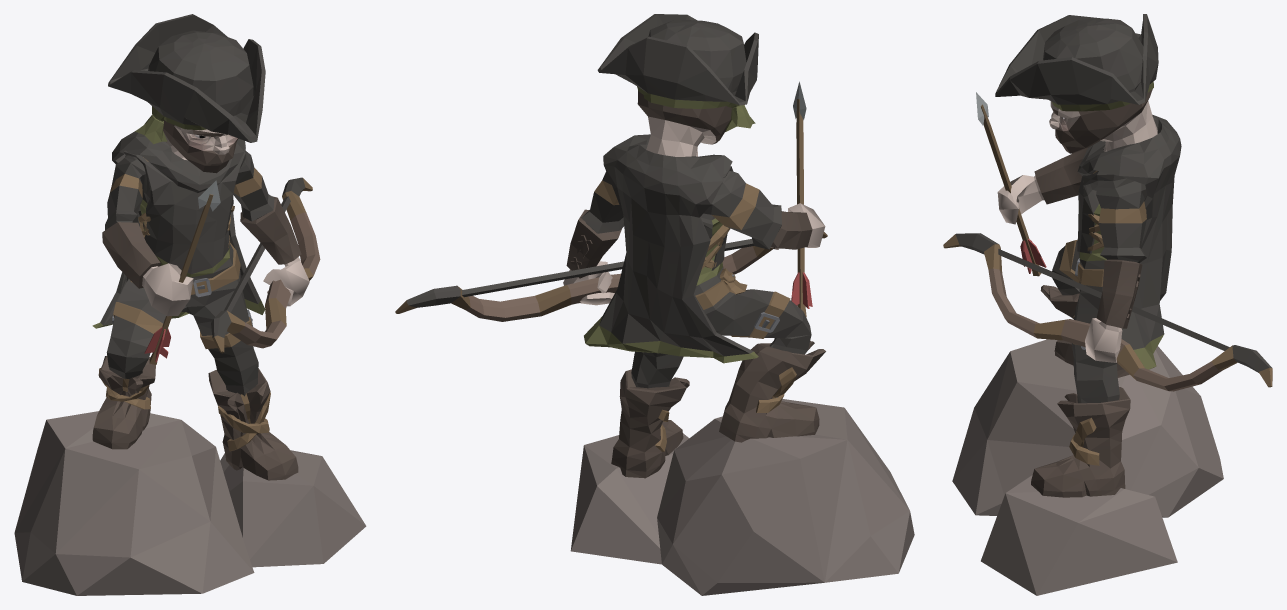
The model's file is twistedArcher.fbx.
3 renders of one model, left to right at view 1: azimuth 30°, elevation 25°; view 2: azimuth 150°, elevation 25°; view 3: azimuth 270°, elevation 25°, orthographic. The views are drawn at different scales.
Visible parts, largest first — view 1: twistedArcher; view 2: twistedArcher; view 3: twistedArcher.
Part boxes in pixels (bbox=[...]): twistedArcher: bbox=[14, 14, 366, 595]; twistedArcher: bbox=[395, 14, 914, 595]; twistedArcher: bbox=[943, 14, 1272, 595].
Bounding box in the file's own units: 1.91 × 2.4 × 1.4.
